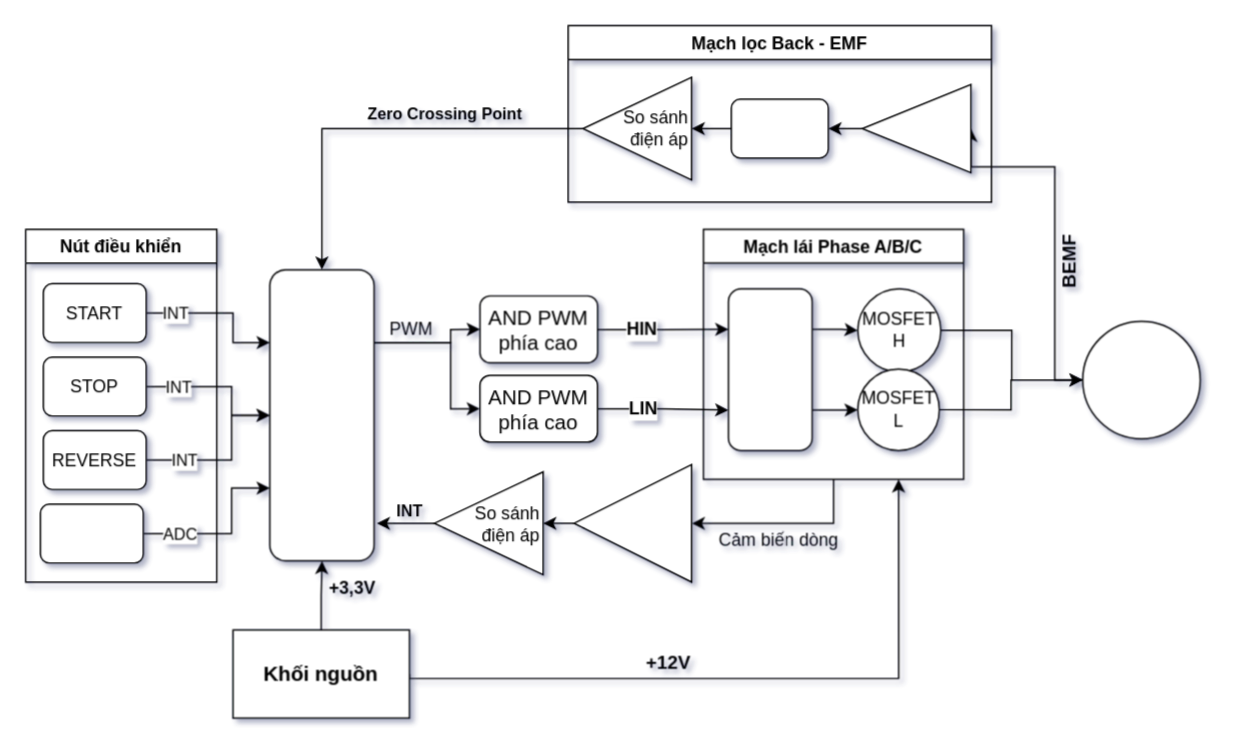
Image size: 1235x753. Some labels were removed from this diagram. Here are the shapes that lost their labels. From the top down, the centre of each, then its label:
At (779,128): "Mạch lọc hạ thông".
At (916,128): "Mạch trừ".
At (769,369): "IR2101".
At (1140,379): "Động cơ BLDC".
At (321,414): "Vi Điều Khiển".
At (91,533): "SPEED".
At (632,522): "Khuếch đại vi sai".
